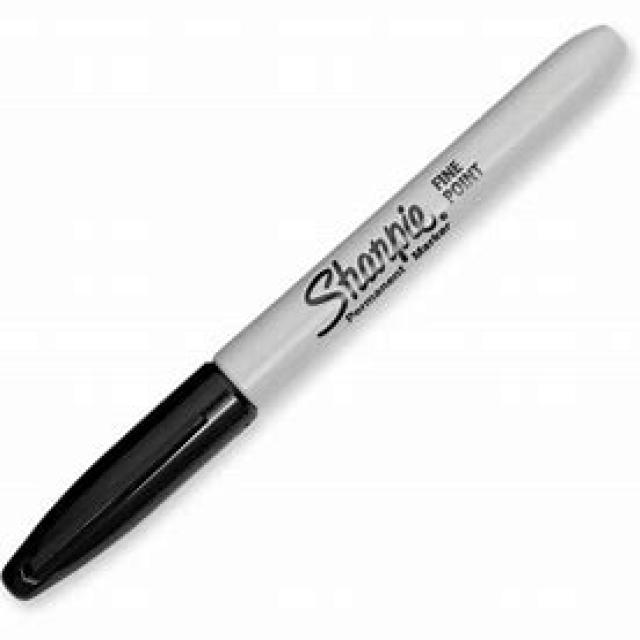pen: (0, 19, 624, 600)
